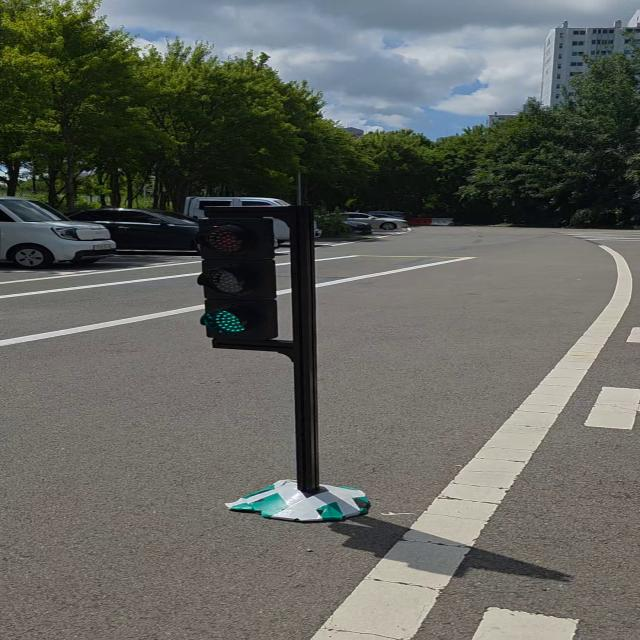green: (197, 214, 280, 344)
